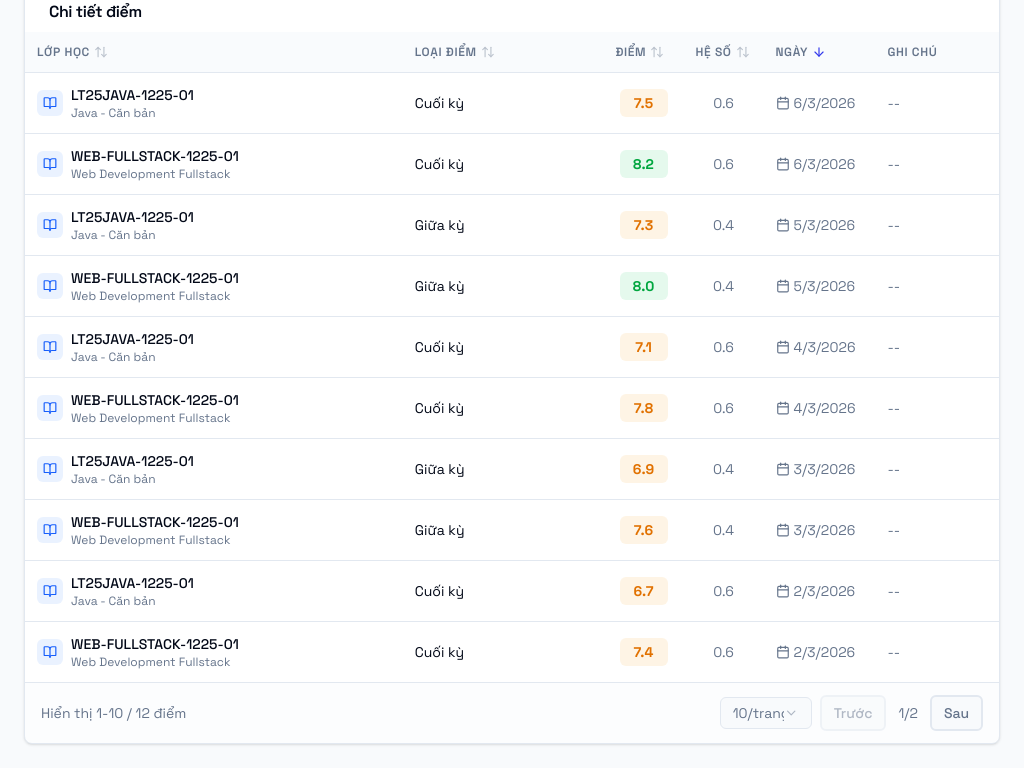
it: StudentGrades page interactions › supports pagination interaction from page 1 to page 2
(page scrolled)
Click the button "Sau". click: [956, 713]
box: x1=930 y1=695 x2=983 y2=731
(page scrolled)
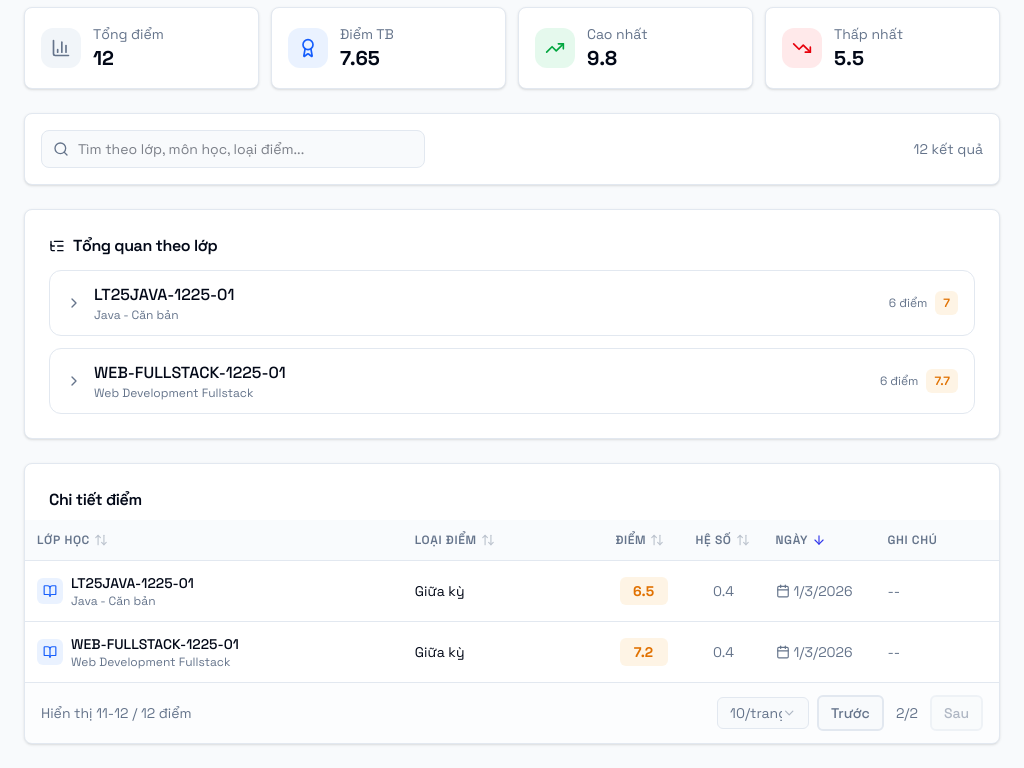
Expected: the text "Hiển thị 11-12 / 12 điểm" is shown, x1=41 y1=703 x2=192 y2=723
